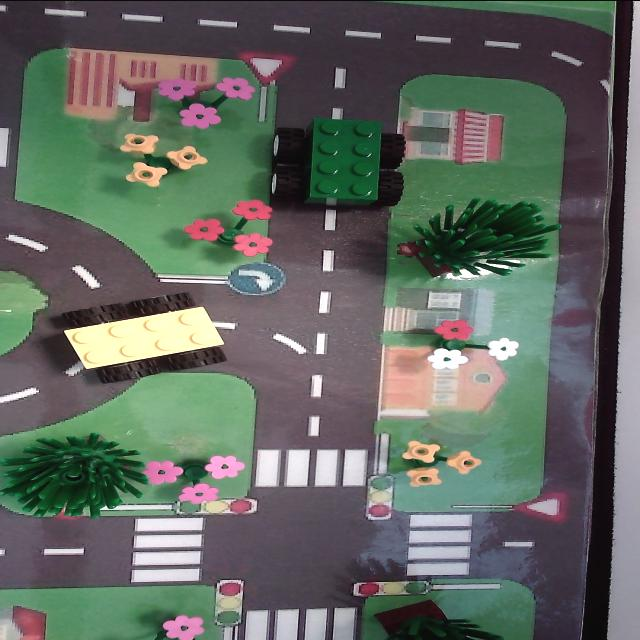Car: (53, 286, 245, 392), (259, 110, 412, 218)
Flower: (178, 195, 278, 261), (152, 72, 260, 131), (415, 318, 523, 376), (116, 126, 212, 190), (140, 451, 248, 506), (392, 437, 482, 489)
Tree: (397, 193, 563, 284), (0, 432, 148, 521), (363, 592, 492, 640)
